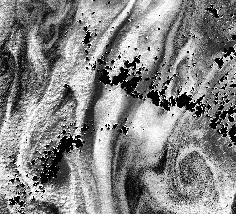CE: (173, 144, 220, 198)
